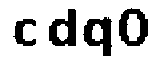0: (117, 4, 149, 52)
c: (12, 15, 37, 49)
d: (45, 6, 79, 51)
q: (82, 14, 114, 60)
